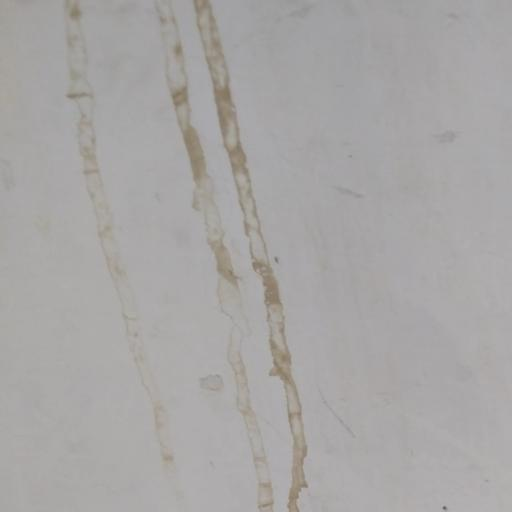stain: (64, 0, 329, 512)
